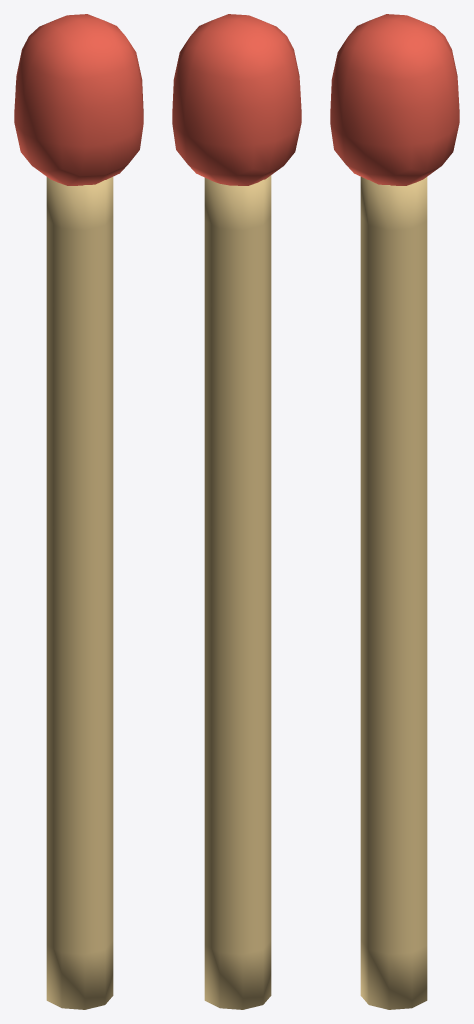
File: match.fbx
The picture shows the model from 3 angles, left to right: view 1: azimuth 30°, elevation 25°; view 2: azimuth 150°, elevation 25°; view 3: azimuth 330°, elevation 25°; orthographic projection.
Visible parts, largest first — view 1: Cube.001, Cube.002; view 2: Cube.001, Cube.002; view 3: Cube.001, Cube.002.
Part boxes in pixels (x1=…): Cube.001: x1=14, y1=14, x2=143, y2=620; Cube.002: x1=46, y1=606, x2=113, y2=1009; Cube.001: x1=172, y1=14, x2=301, y2=620; Cube.002: x1=204, y1=606, x2=271, y2=1009; Cube.001: x1=330, y1=14, x2=459, y2=620; Cube.002: x1=360, y1=606, x2=427, y2=1009.
Size of the model in its own units: 0.4977 by 0.4977 by 4.21.
